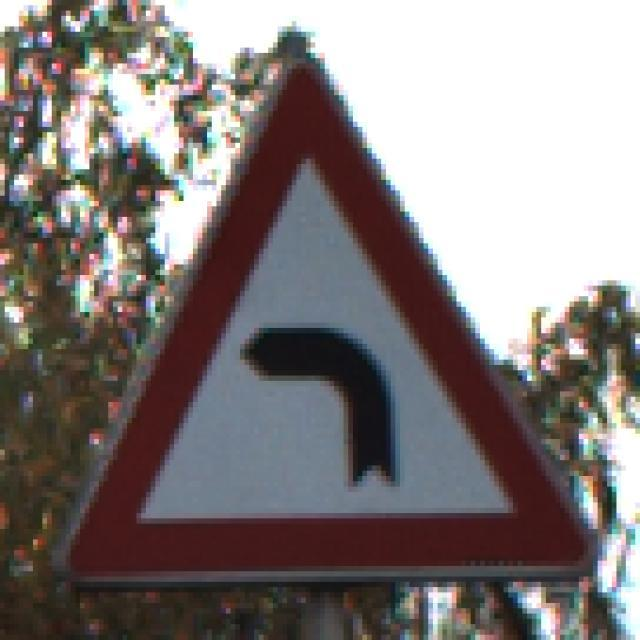left hand curve: (41, 31, 597, 603)
